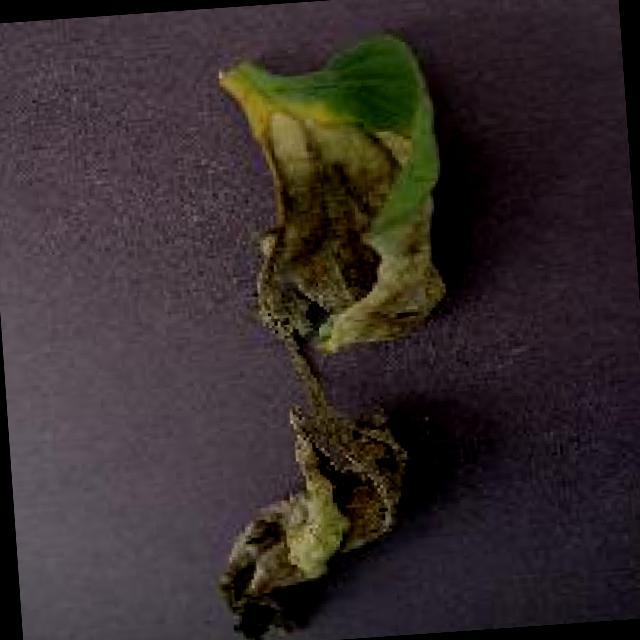leaf blight: (212, 30, 451, 640)
